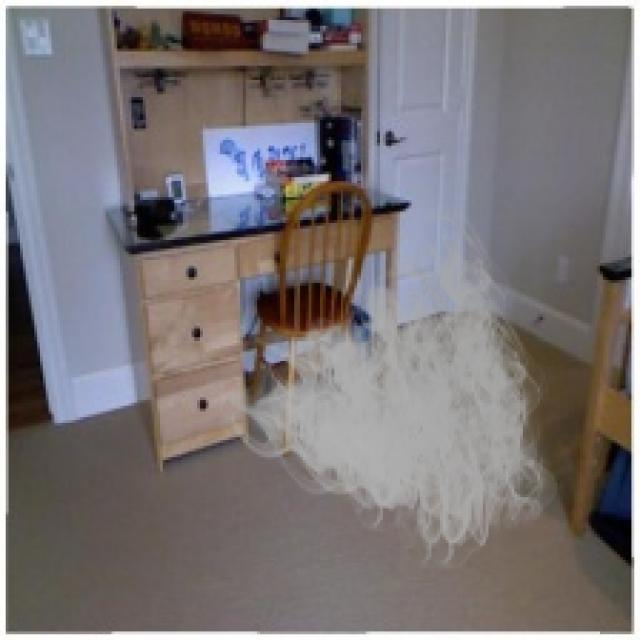smoke: (220, 200, 566, 580)
